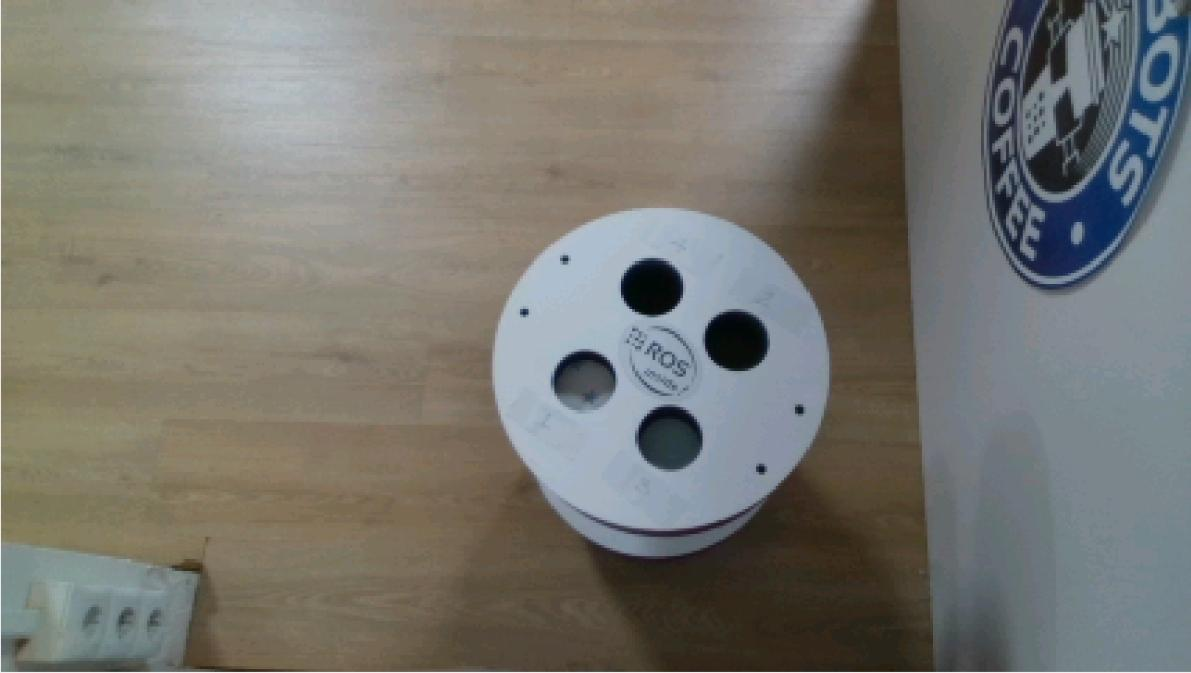hole: (631, 398, 709, 473), (701, 303, 772, 378), (618, 250, 688, 321), (547, 346, 620, 413)
